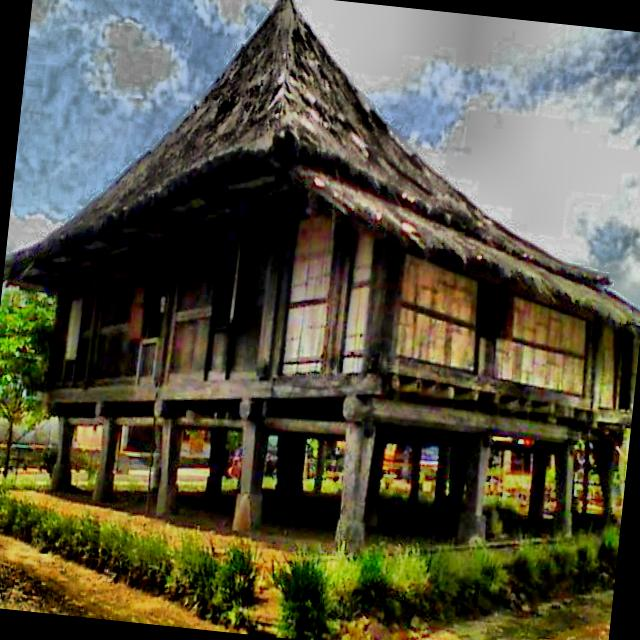column: (335, 425, 387, 544), (232, 421, 267, 530), (456, 440, 491, 546), (156, 417, 184, 512), (92, 418, 119, 498), (525, 449, 547, 536), (551, 450, 572, 540), (52, 417, 78, 489), (205, 429, 226, 491), (434, 451, 450, 506), (408, 447, 422, 503), (313, 439, 325, 492)
roof: (2, 0, 640, 353)
wall: (45, 185, 638, 434)
window: (476, 288, 513, 341), (129, 285, 164, 337)
